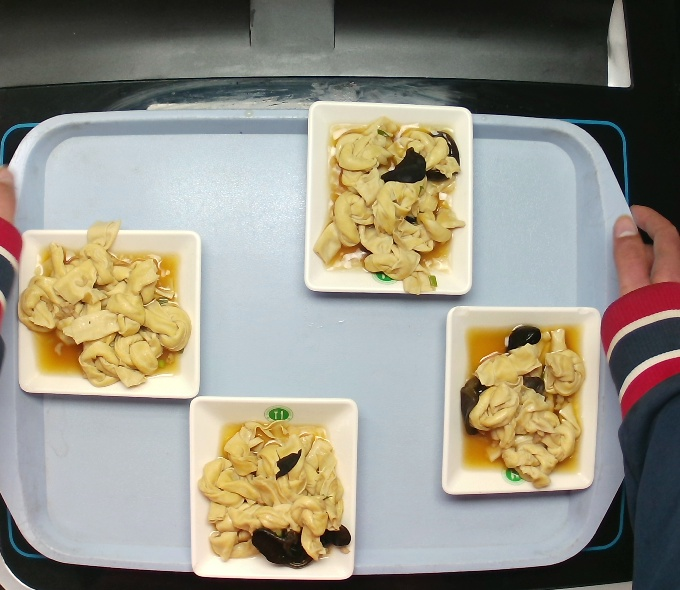wcq-QianZhangJie: (16, 225, 184, 394), (204, 401, 352, 581), (313, 128, 462, 286), (458, 323, 593, 485)
